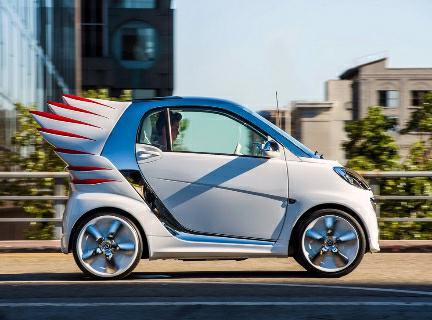smart-forjeremy: (28, 100, 389, 270)
